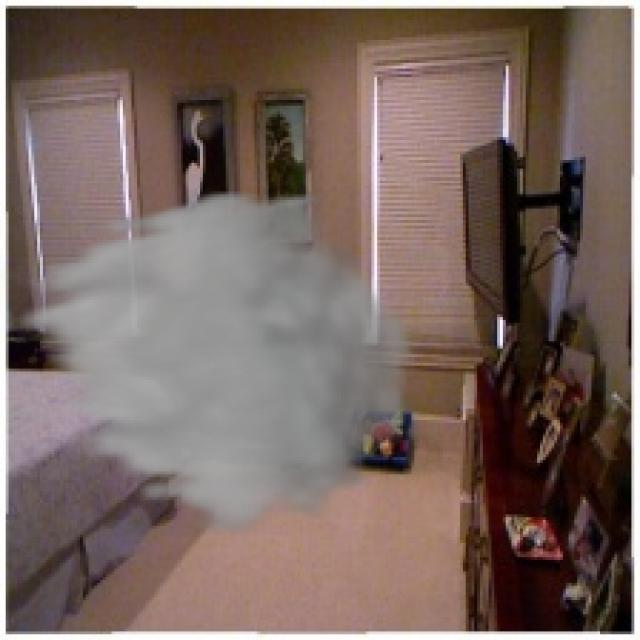Smoke: (0, 185, 423, 540)
